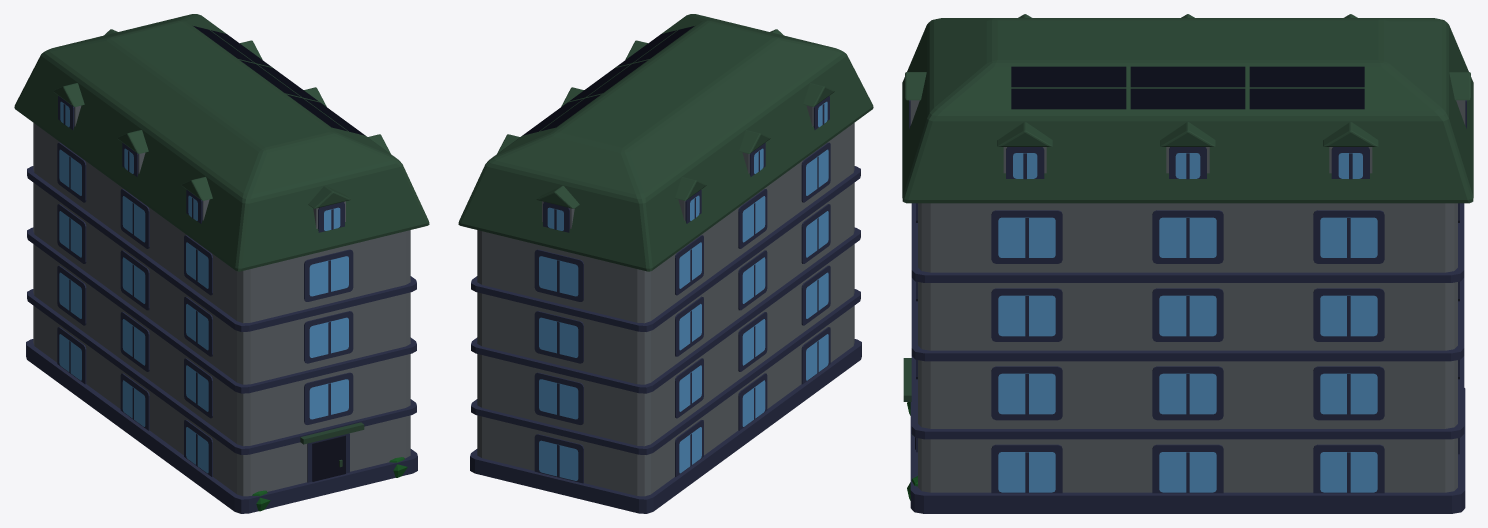
The model's file is house-1x2-4f-mansard-d-solar.glb.
3 views of the same model, side by side, from view 1: azimuth 30°, elevation 25°; view 2: azimuth 150°, elevation 25°; view 3: azimuth 270°, elevation 25° (orthographic). The views are drawn at different scales.
Visible parts, largest first — view 1: house-1x2-4f-mansard-d-solar; view 2: house-1x2-4f-mansard-d-solar; view 3: house-1x2-4f-mansard-d-solar.
Part boxes in pixels (bbox=[...]): house-1x2-4f-mansard-d-solar: bbox=[14, 14, 429, 513]; house-1x2-4f-mansard-d-solar: bbox=[458, 14, 873, 513]; house-1x2-4f-mansard-d-solar: bbox=[902, 14, 1473, 513].
Bounding box in the file's own units: 0.9876 × 1.6 × 1.99.
1 material, 1 textured.
